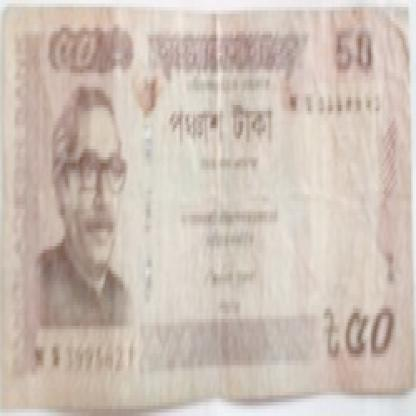Fifty taka: (336, 302, 398, 371), (45, 17, 95, 87)
